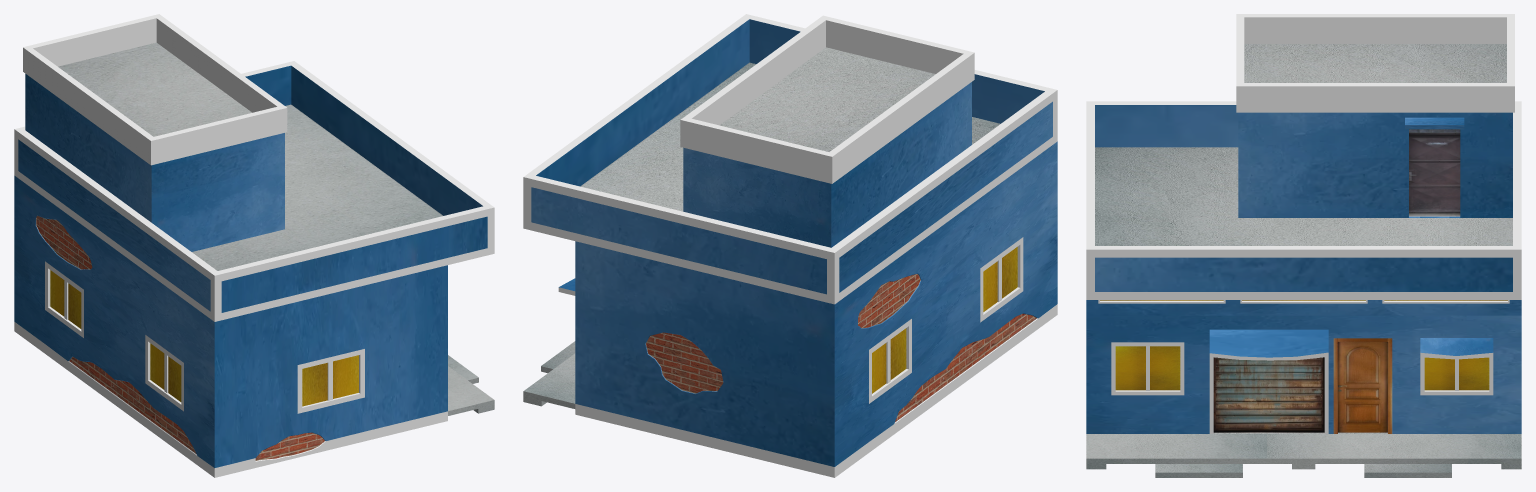
File: small-house-transformed.glb
3 renders of one model, left to right at view 1: azimuth 30°, elevation 25°; view 2: azimuth 150°, elevation 25°; view 3: azimuth 270°, elevation 25°, orthographic. The views are drawn at different scales.
Visible parts, largest first — view 1: Object_4, Object_8, Object_10, Object_11, Object_9; view 2: Object_4, Object_8, Object_10, Object_11, Object_9; view 3: Object_4, Object_10, Object_8, Object_6, Object_5, Object_9, Object_7.
Part boxes in pixels (<box>): Object_4: <box>14,65,487,467</box>; Object_8: <box>14,14,494,477</box>; Object_10: <box>36,42,494,460</box>; Object_11: <box>36,216,324,460</box>; Object_9: <box>50,270,358,406</box>; Object_4: <box>531,19,1057,466</box>; Object_8: <box>523,14,1057,477</box>; Object_10: <box>523,47,1036,422</box>; Object_11: <box>646,274,1036,421</box>; Object_9: <box>872,247,1017,393</box>; Object_4: <box>1086,105,1521,433</box>; Object_10: <box>1086,44,1521,477</box>; Object_8: <box>1086,14,1521,433</box>; Object_6: <box>1213,357,1324,432</box>; Object_5: <box>1333,338,1392,433</box>; Object_9: <box>1100,300,1507,390</box>; Object_7: <box>1409,129,1460,216</box>.
Size of the model in its own units: 6.36 by 5.85 by 7.45.
Materials: 8 (7 with a texture image).
